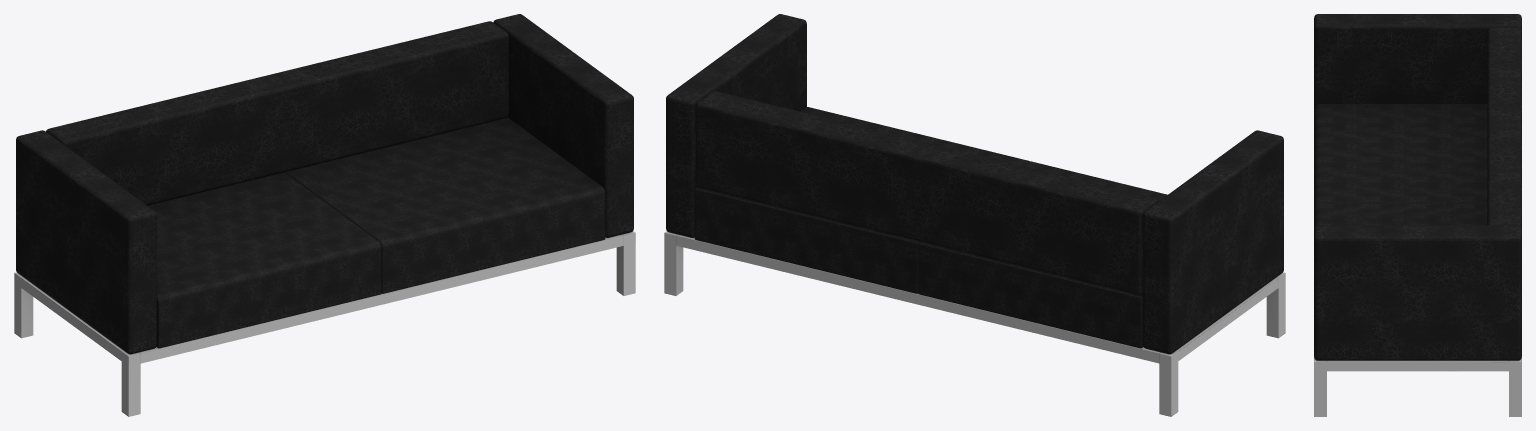
The model's file is modern_sofa.glb.
The picture shows the model from 3 angles, left to right: view 1: azimuth 30°, elevation 25°; view 2: azimuth 150°, elevation 25°; view 3: azimuth 270°, elevation 25°; orthographic projection. The views are drawn at different scales.
Visible parts, largest first — view 1: sofa_target; view 2: sofa_target; view 3: sofa_target.
Part boxes in pixels (bbox=[...]): sofa_target: bbox=[14, 14, 635, 416]; sofa_target: bbox=[664, 14, 1285, 416]; sofa_target: bbox=[1314, 14, 1521, 416].
Size of the model in its own units: 1.95 by 0.7271 by 0.7619.
1 material, 1 textured.
